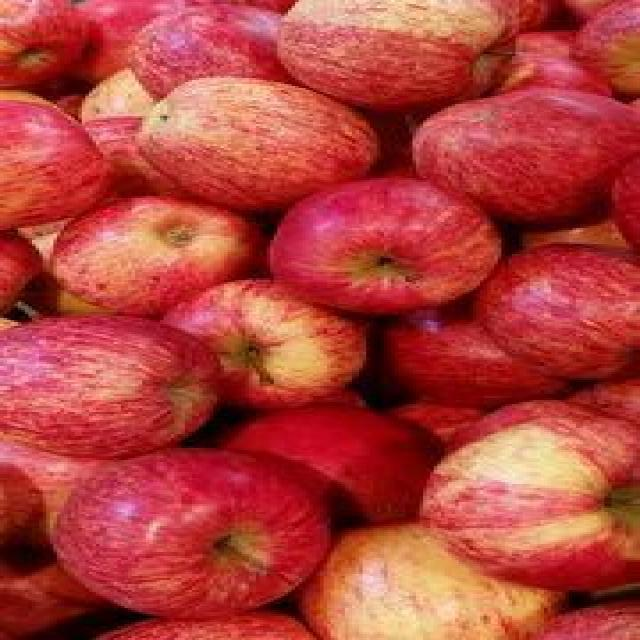Fresh Apple: (68, 458, 332, 625), (10, 312, 212, 475), (440, 430, 640, 593), (142, 92, 362, 222), (280, 5, 535, 115), (425, 84, 628, 218), (265, 197, 487, 318), (45, 195, 252, 320), (343, 515, 537, 640), (190, 292, 367, 415), (471, 253, 640, 381), (106, 12, 282, 98), (0, 106, 123, 213)
